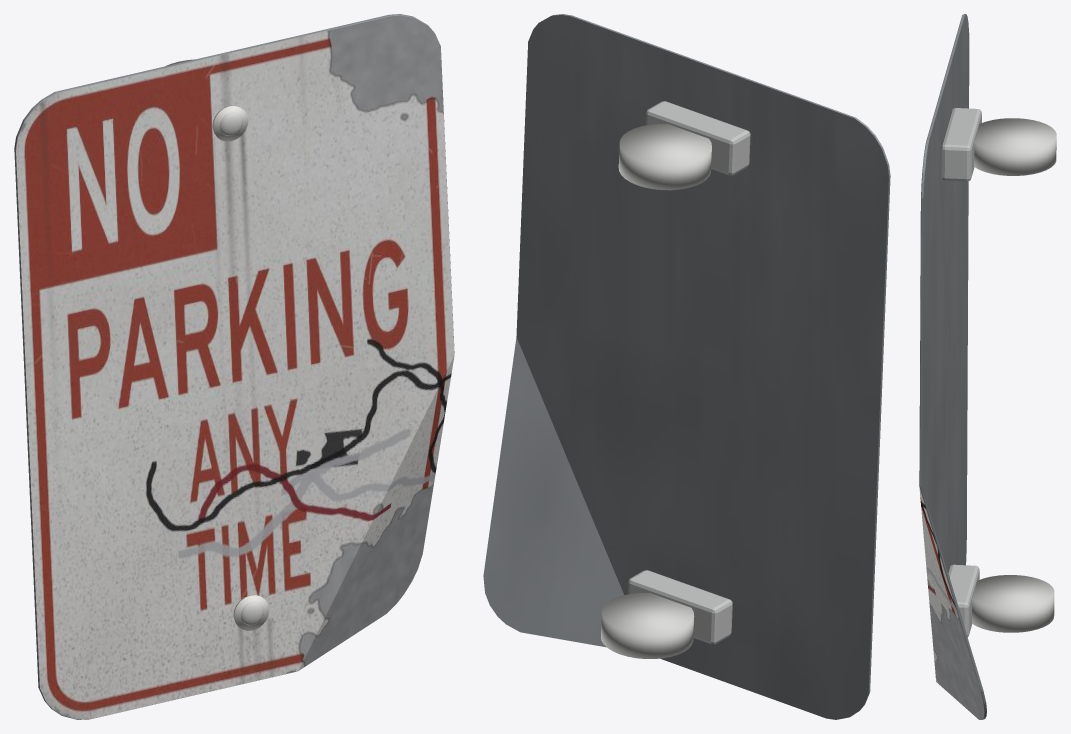
Rendered from noParking-v1-battered.glb.
3 views of the same model, side by side, from view 1: azimuth 30°, elevation 25°; view 2: azimuth 150°, elevation 25°; view 3: azimuth 270°, elevation 25° (orthographic). The views are drawn at different scales.
Parts seen in each view (by area): view 1: noParking-v1-battered; view 2: noParking-v1-battered; view 3: noParking-v1-battered.
Part boxes in pixels (left/top/right/bottom): noParking-v1-battered: left=14, top=14, right=454, bottom=719; noParking-v1-battered: left=483, top=14, right=890, bottom=719; noParking-v1-battered: left=919, top=14, right=1056, bottom=719.
Bounding box in the file's own units: 0.3129 × 0.4668 × 0.0986.
1 material, 1 textured.
